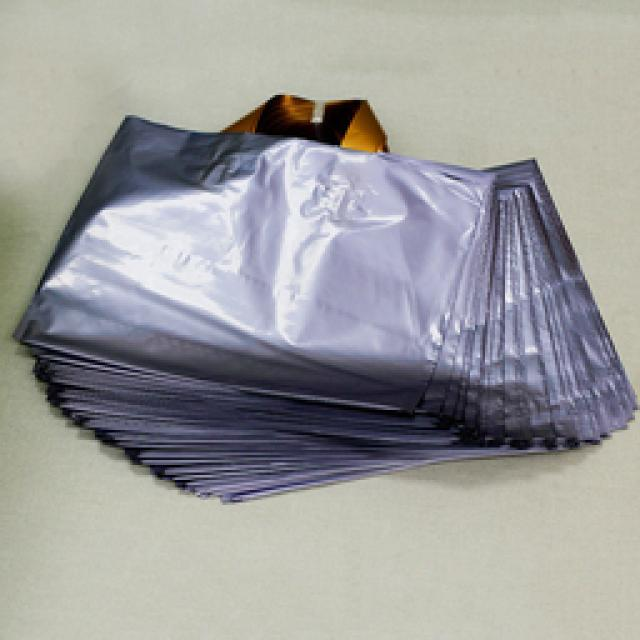plastic: (15, 95, 632, 500)
